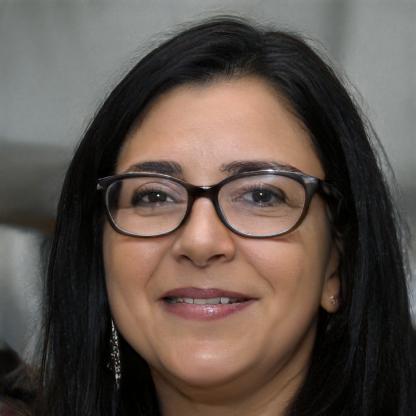glasses: (93, 172, 319, 244)
